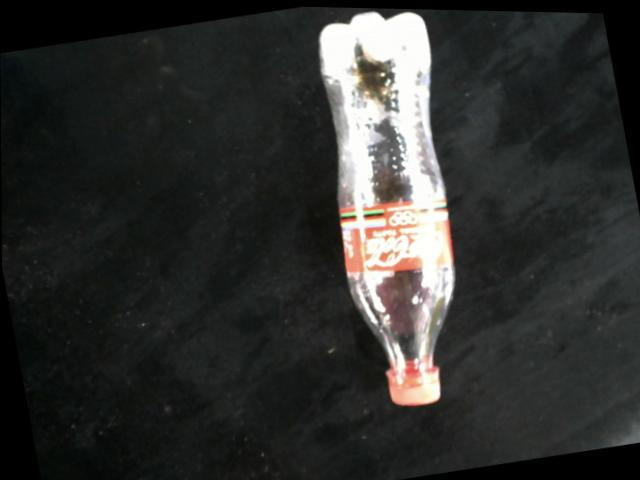bottle: (317, 8, 458, 405)
